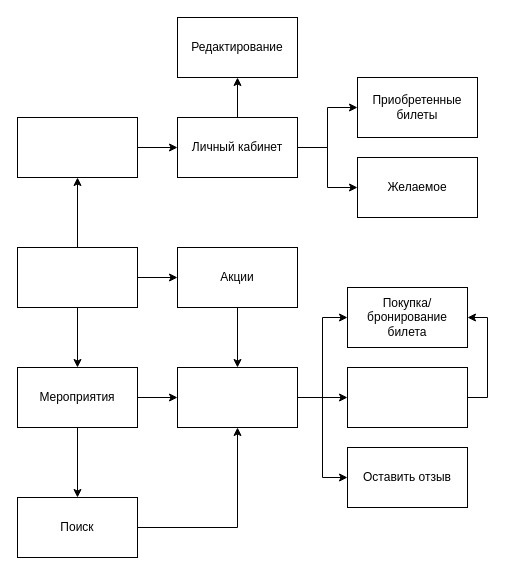
Some shapes in this 513 by 575 pixel diagram are drawn without their labels. The shapes that lost their labels are listed below. From the top down, each one's centre as x and y in pixels, then its label:
(x=77, y=147): Авторизация
(x=77, y=277): Главная страница
(x=237, y=397): Мероприятие
(x=407, y=397): Просмотр схемы зала
